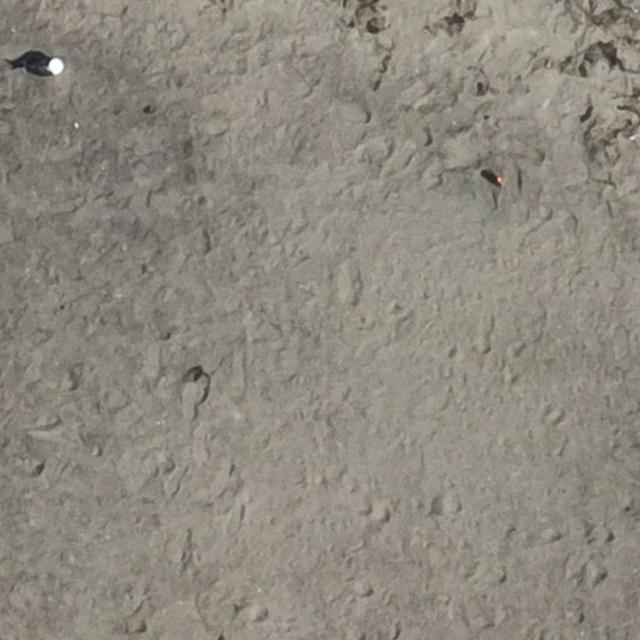umineko: (24, 57, 62, 75)
